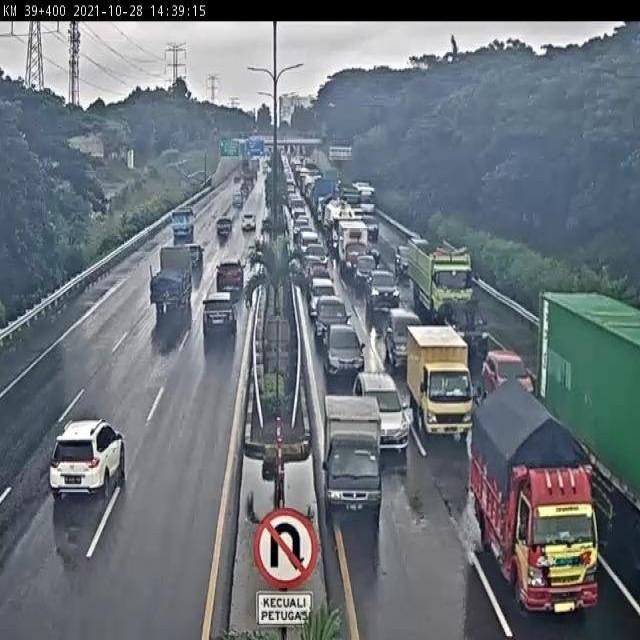big truck: (520, 276, 640, 545), (402, 230, 480, 334)
car: (42, 397, 133, 523), (348, 365, 413, 451), (320, 316, 368, 385), (439, 296, 486, 357), (197, 282, 240, 346), (380, 303, 422, 367), (479, 344, 533, 393), (310, 294, 350, 346), (210, 260, 247, 313), (366, 266, 403, 314), (210, 208, 237, 244), (238, 207, 260, 241)
mid truck: (457, 372, 605, 627), (393, 312, 458, 429), (141, 238, 203, 330), (163, 204, 198, 247), (180, 248, 205, 277)
small truck: (315, 388, 385, 527)
